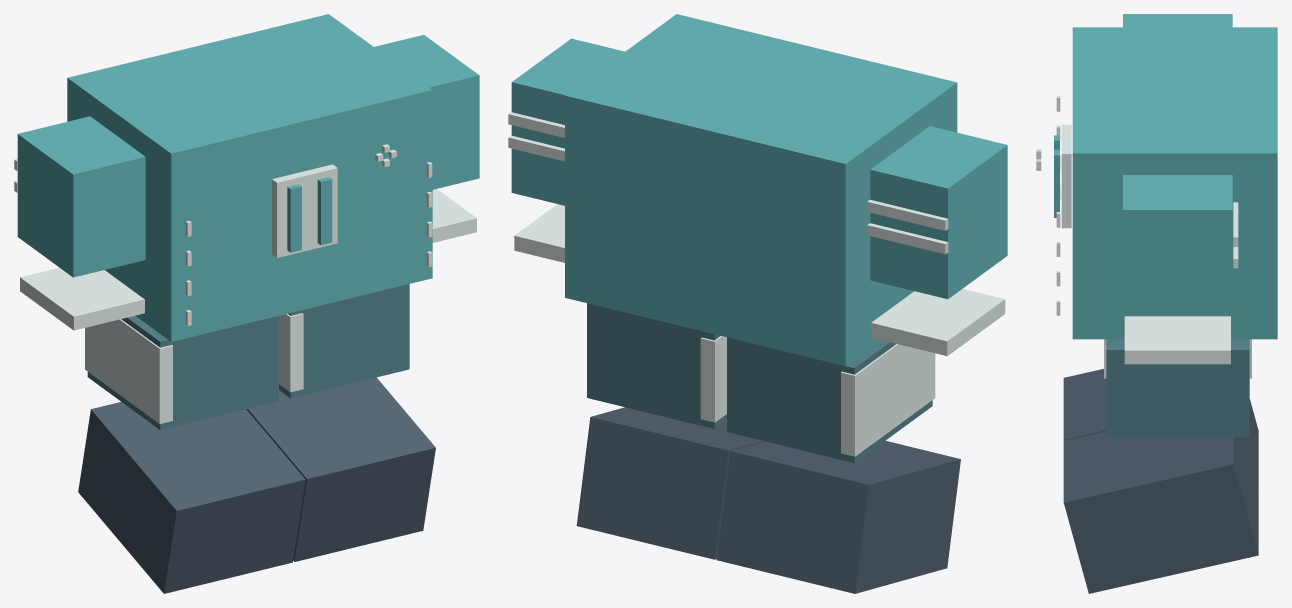
The model's file is sport-teal.glb.
3 views of the same model, side by side, from view 1: azimuth 30°, elevation 25°; view 2: azimuth 150°, elevation 25°; view 3: azimuth 270°, elevation 25° (orthographic). The views are drawn at different scales.
Visible parts, largest first — view 1: jacket, shoe-Right, shoe-Left, upper-sleeve-Right, trouser-Right, trouser-Left, upper-sleeve-Left, shorts-stripe-Right, cuff-Right, jersey-number, shorts-stripe-Left, cuff-Left (+2 smaller); view 2: jacket, shoe-Right, shoe-Left, upper-sleeve-Right, trouser-Right, trouser-Left, upper-sleeve-Left, shorts-stripe-Right, cuff-Right, shorts-stripe-Left, cuff-Left, design-sport-shoulder-stripe-Right-0 (+3 smaller); view 3: jacket, shoe-Left, upper-sleeve-Left, trouser-Left, cuff-Left, shoe-Right, upper-sleeve-Right, jersey-number, design-sport-number-eleven-0.025.
Part boxes in pixels (<box>): jacket: <box>67,14,432,341</box>; shoe-Right: <box>78,402,305,593</box>; shoe-Left: <box>246,377,435,561</box>; upper-sleeve-Right: <box>17,116,145,277</box>; trouser-Right: <box>87,316,278,429</box>; trouser-Left: <box>279,284,409,398</box>; upper-sleeve-Left: <box>374,35,479,189</box>; shorts-stripe-Right: <box>85,319,172,423</box>; cuff-Right: <box>20,267,144,330</box>; jersey-number: <box>272,164,337,257</box>; shorts-stripe-Left: <box>279,313,303,392</box>; cuff-Left: <box>432,189,476,242</box>; jacket: <box>565,14,957,366</box>; shoe-Right: <box>717,440,960,593</box>; shoe-Left: <box>576,407,764,559</box>; upper-sleeve-Right: <box>870,126,1007,299</box>; trouser-Right: <box>727,337,932,462</box>; trouser-Left: <box>587,303,726,428</box>; upper-sleeve-Left: <box>511,38,624,205</box>; shorts-stripe-Right: <box>841,344,935,456</box>; cuff-Right: <box>871,288,1005,356</box>; shorts-stripe-Left: <box>700,336,726,422</box>; cuff-Left: <box>514,204,564,262</box>; design-sport-shoulder-stripe-Right-0: <box>867,199,948,230</box>; jacket: <box>1072,27,1277,339</box>; shoe-Left: <box>1063,431,1258,593</box>; upper-sleeve-Left: <box>1123,175,1232,311</box>; trouser-Left: <box>1106,339,1249,437</box>; cuff-Left: <box>1124,316,1230,364</box>; shoe-Right: <box>1063,369,1258,492</box>; upper-sleeve-Right: <box>1123,14,1232,27</box>; jersey-number: <box>1061,124,1071,228</box>; design-sport-number-eleven-0.025: <box>1054,149,1059,217</box>.
Bounding box in the file's own units: 1.07 × 1.13 × 0.559.
